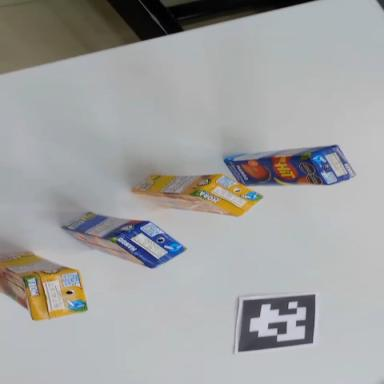HIT-MANGO: (59, 209, 188, 272), (223, 142, 354, 197)
HIT-MORA: (131, 159, 265, 223), (0, 250, 86, 320)
cara_F: (59, 229, 154, 268), (224, 154, 326, 187), (132, 192, 237, 217), (0, 261, 32, 325)
